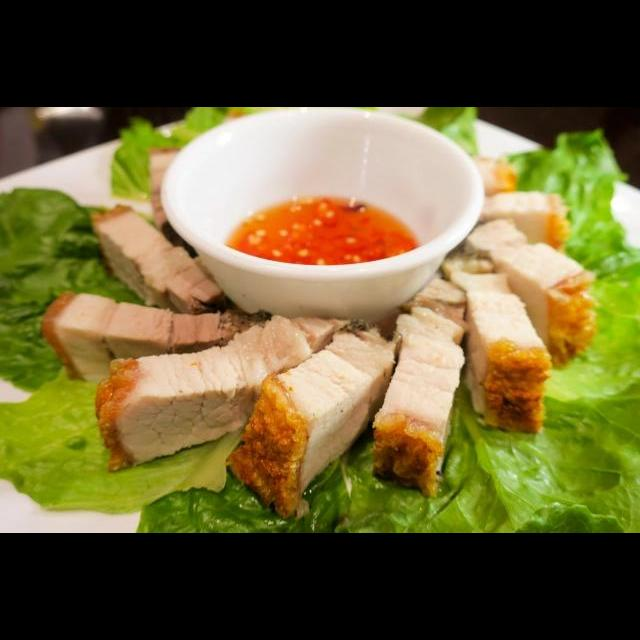thit heo quay: (92, 310, 356, 477), (222, 313, 404, 524), (37, 288, 277, 390), (368, 271, 473, 500), (460, 213, 601, 377), (437, 247, 555, 437), (85, 199, 230, 321), (468, 185, 575, 272)
